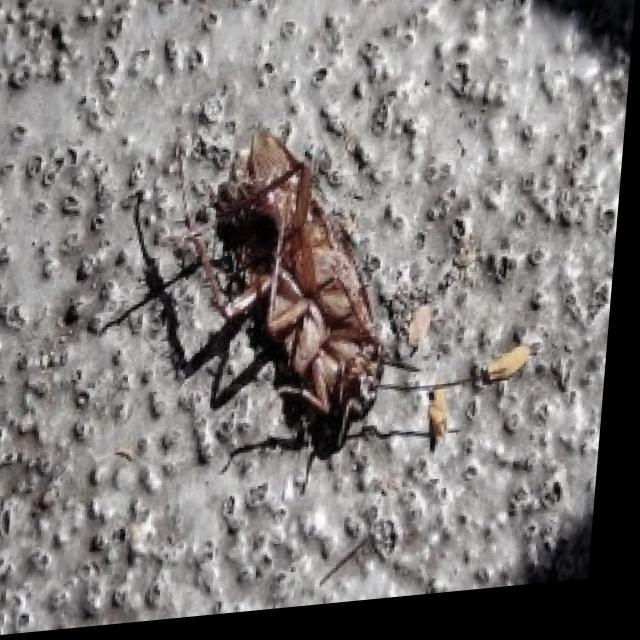cockroach: (93, 126, 539, 496)
